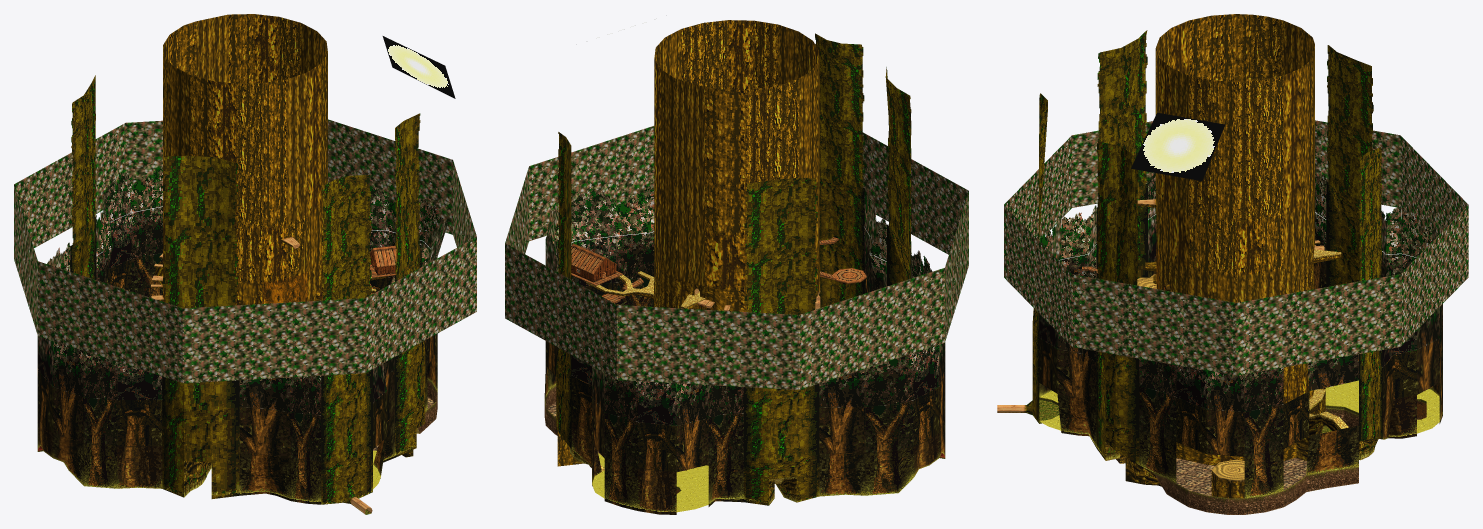
Rendered from clickclock.FBX.
3 views of the same model, side by side, from view 1: azimuth 30°, elevation 25°; view 2: azimuth 150°, elevation 25°; view 3: azimuth 270°, elevation 25° (orthographic). The views are drawn at different scales.
Parts seen in each view (by area): view 1: material_70; view 2: material_70; view 3: material_70.
Part boxes in pixels (<box>): material_70: <box>14,14,476,514</box>; material_70: <box>505,20,968,514</box>; material_70: <box>997,14,1468,514</box>.
Size of the model in its own units: 15048 by 13607 by 15259.
78 materials, 78 textured.
